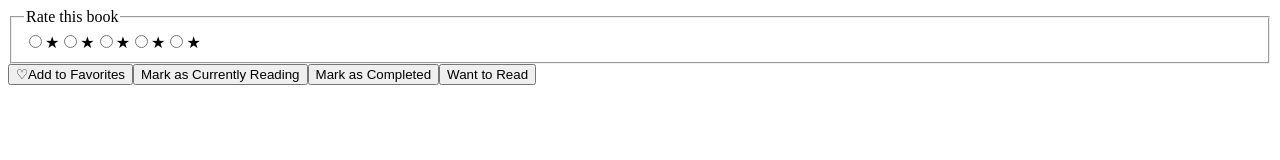
Test: clicking Add to Favorites saves the book to Favorites
Click the button "♡Add to Favorites" at (70, 74), box [8, 64, 133, 85]
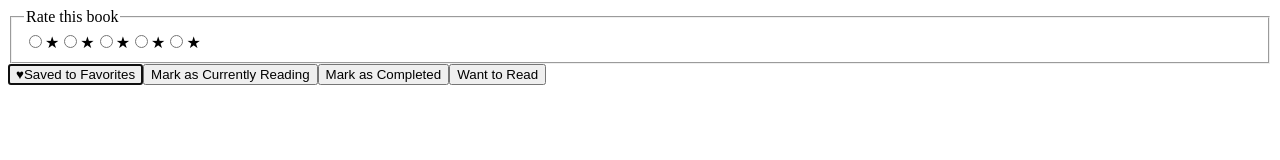
Now the button "♥Saved to Favorites" is shown, box [8, 64, 143, 85]
